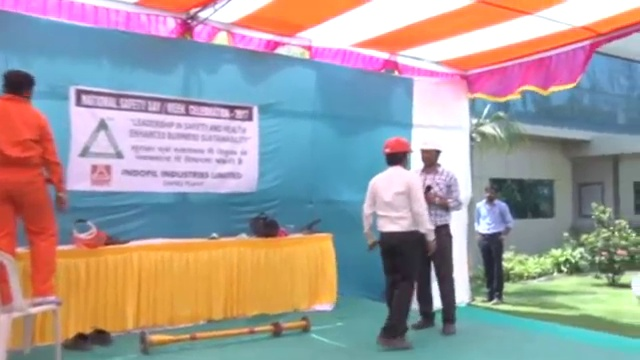helmet: (383, 134, 414, 154), (419, 137, 443, 154)
helmet_off: (2, 64, 36, 99), (481, 183, 501, 204)
helmet_on: (381, 136, 413, 172), (417, 136, 444, 178)
person: (360, 135, 437, 352), (1, 65, 69, 308), (417, 136, 463, 340), (472, 182, 514, 308)
